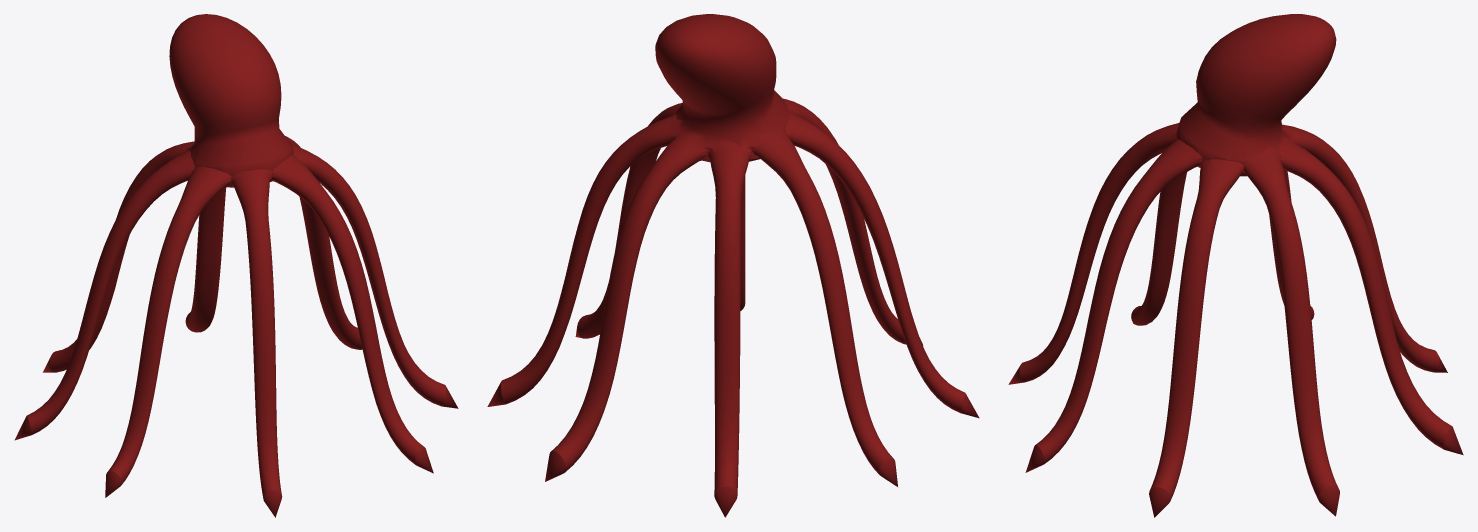
The model's file is tako_1.obj.
3 renders of one model, left to right at view 1: azimuth 30°, elevation 25°; view 2: azimuth 150°, elevation 25°; view 3: azimuth 270°, elevation 25°, orthographic. The views are drawn at different scales.
Visible parts, largest first — view 1: pCylinder2; view 2: pCylinder2; view 3: pCylinder2.
Part boxes in pixels (x1=…): pCylinder2: x1=14, y1=14, x2=458, y2=517; pCylinder2: x1=487, y1=14, x2=979, y2=517; pCylinder2: x1=1008, y1=14, x2=1463, y2=517.
Size of the model in its own units: 8.64 by 8.54 by 8.69.
